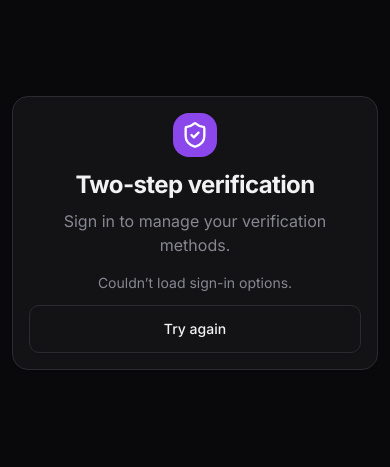
Test: recovers configured sign-in methods after a temporary loading failure
Click the button "Try again".
click(195, 329)  # box [29,305,361,353]
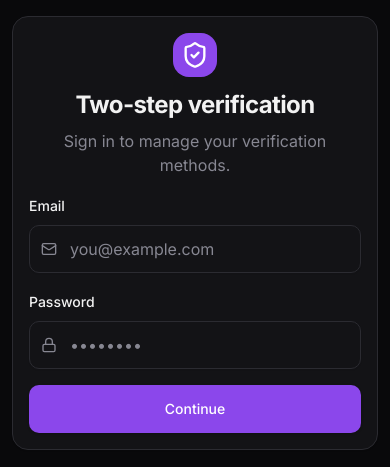
Expected: the field labelled "Email" is shown, [29,225,361,273]
Expected: the message "Couldn’t load sign-in options." is gone
